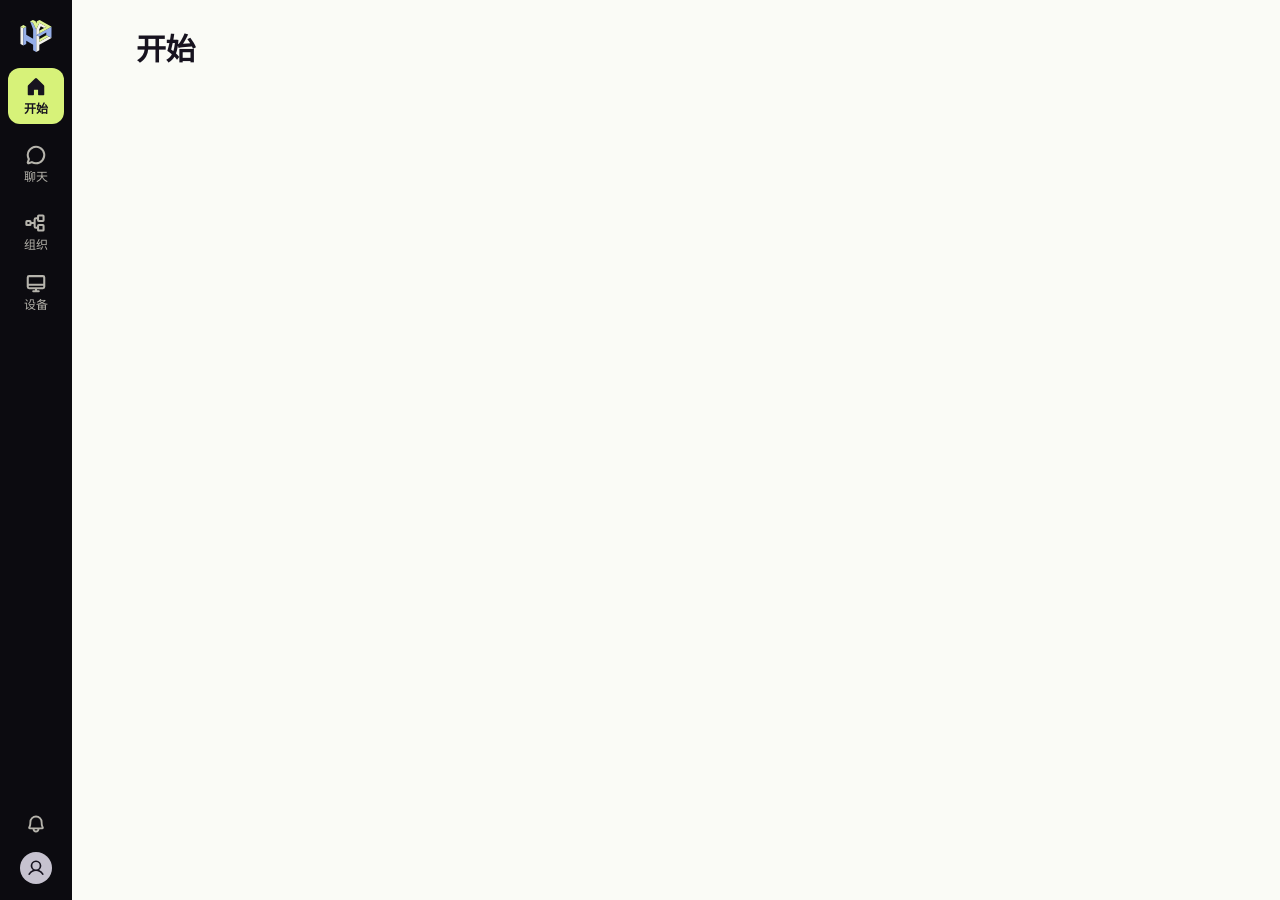
it: J7 integration: M-16 and M-17 › TC-006 opens Inspect for the M-17 edge with four fields and no endpoint
Click the button "组织". click: [36, 232]
box: top-left (8, 204), bottom-right (64, 260)
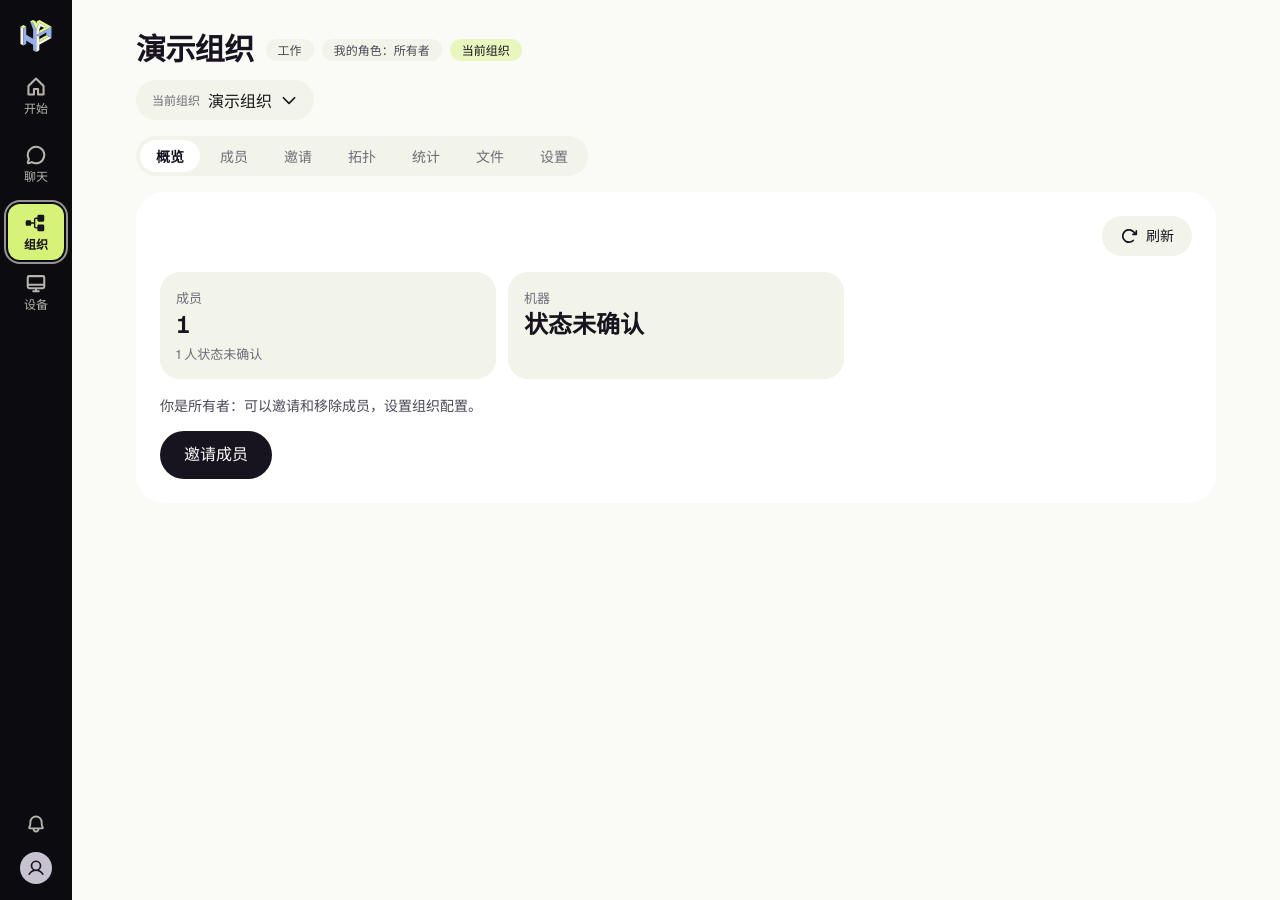
Click the tab "拓扑". click: [362, 156]
box: top-left (332, 140), bottom-right (392, 172)
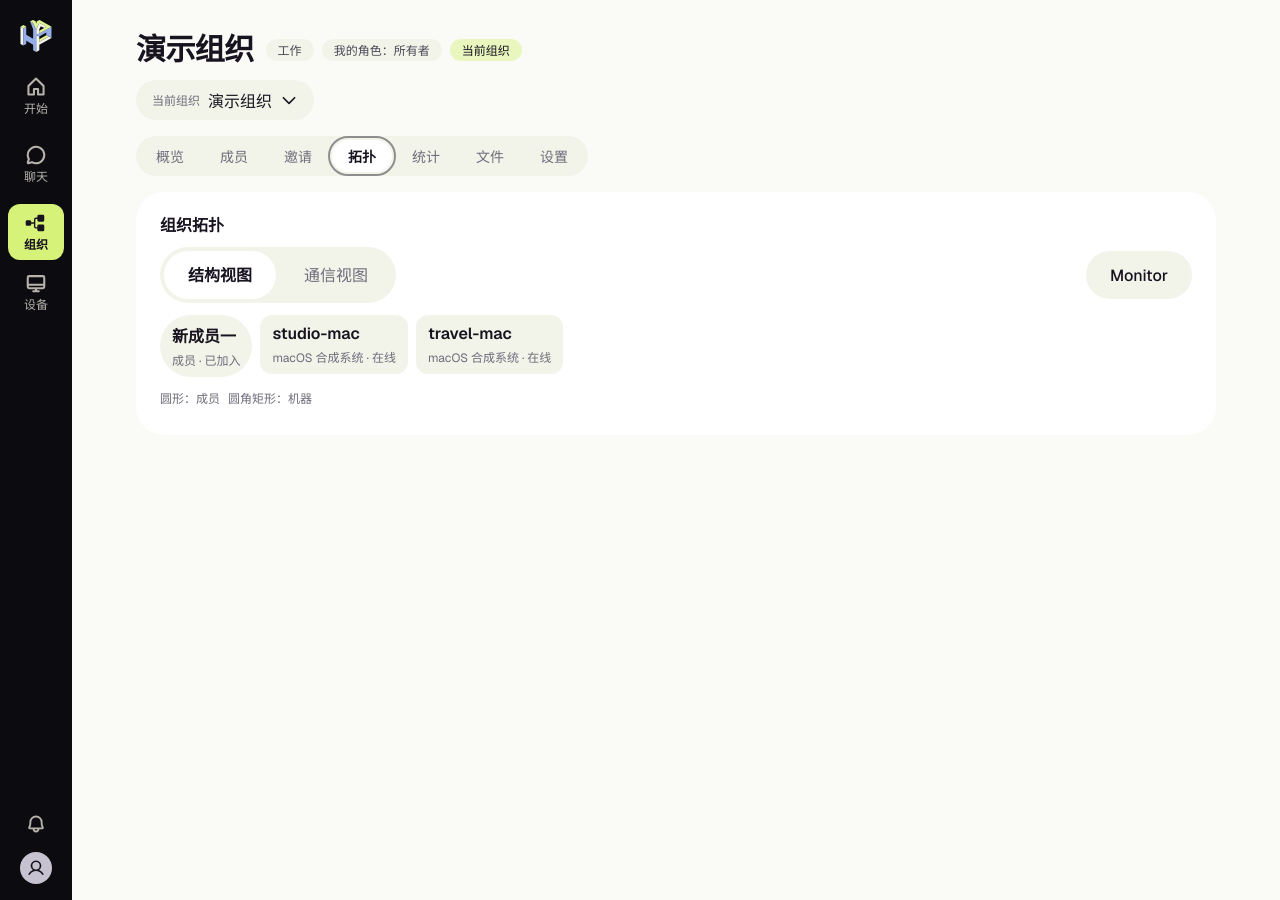
Click the button "通信视图". click: [336, 275]
box: top-left (280, 251), bottom-right (392, 299)
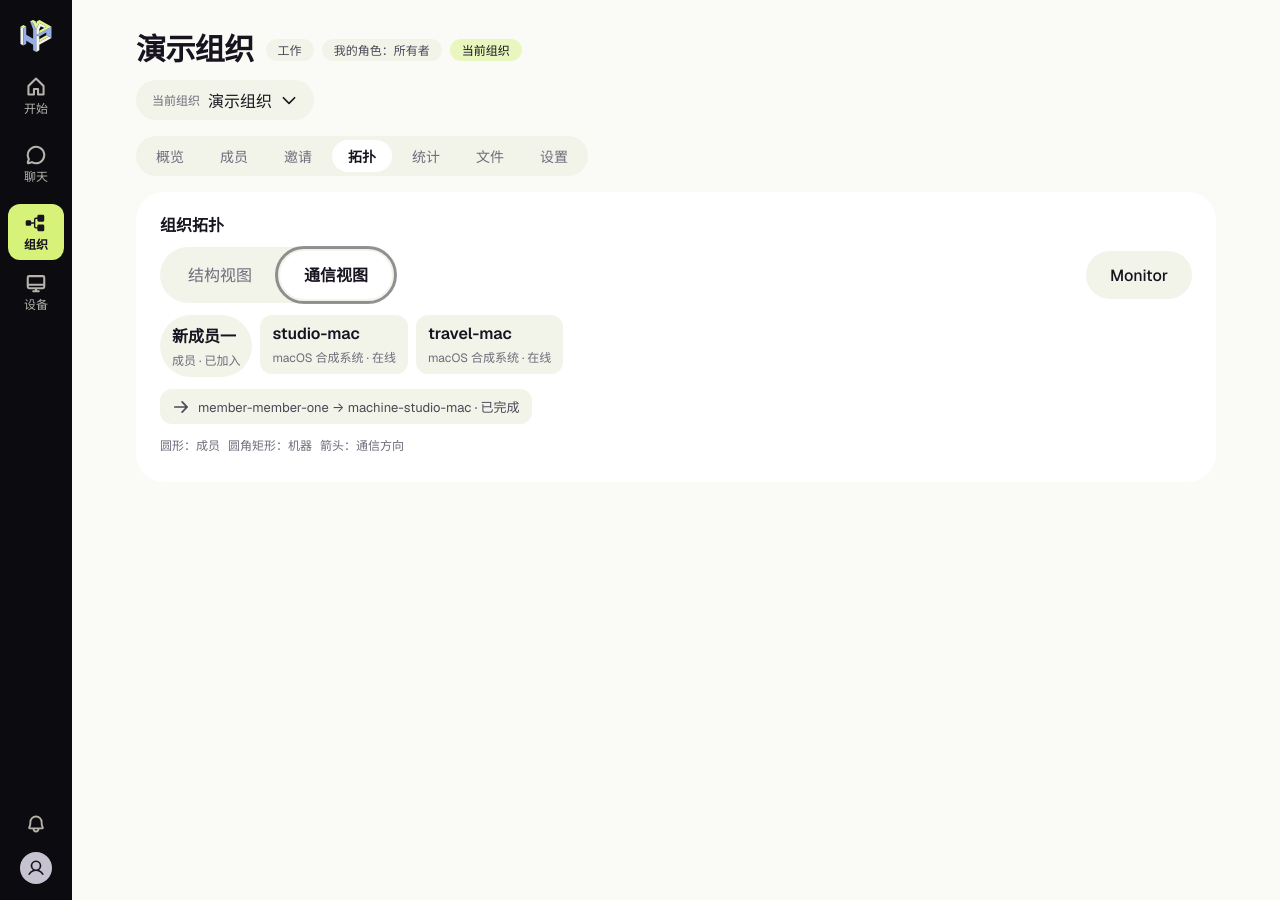
Expected: the button "member-member-one → machine-studio-mac · 已完成" is shown
Click the button "member-member-one → machine-studio-mac · 已完成". click: [346, 407]
box: top-left (160, 389), bottom-right (532, 424)
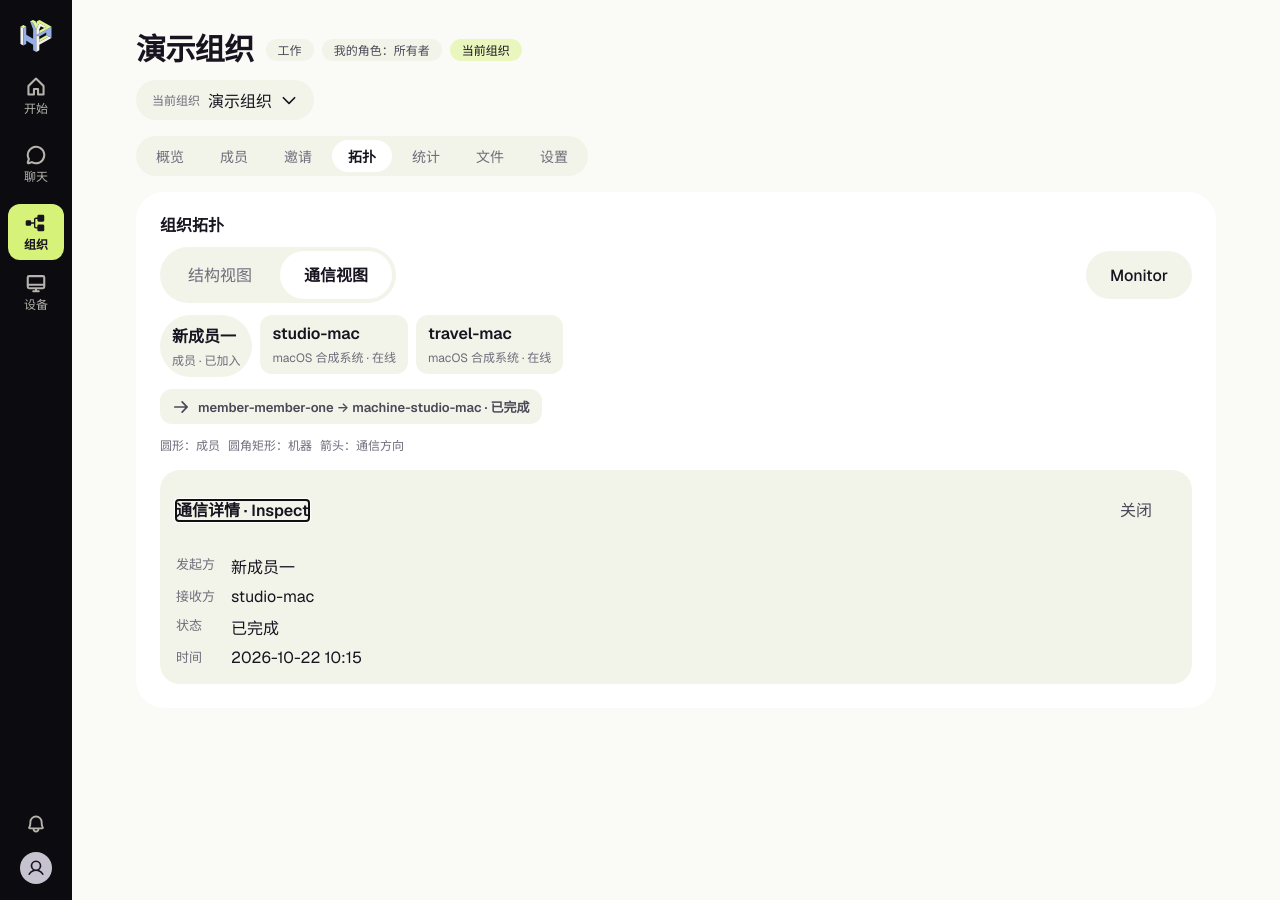
Expected: the dialog "Inspect" shows "发起方", top-left (176, 556), bottom-right (215, 573)
Expected: the dialog "Inspect" shows "接收方", top-left (176, 588), bottom-right (215, 605)
Expected: the dialog "Inspect" shows "状态", top-left (176, 617), bottom-right (202, 634)
Click the button with aria-label "关闭 Inspect". click: [1136, 510]
box: top-left (1096, 486), bottom-right (1176, 534)
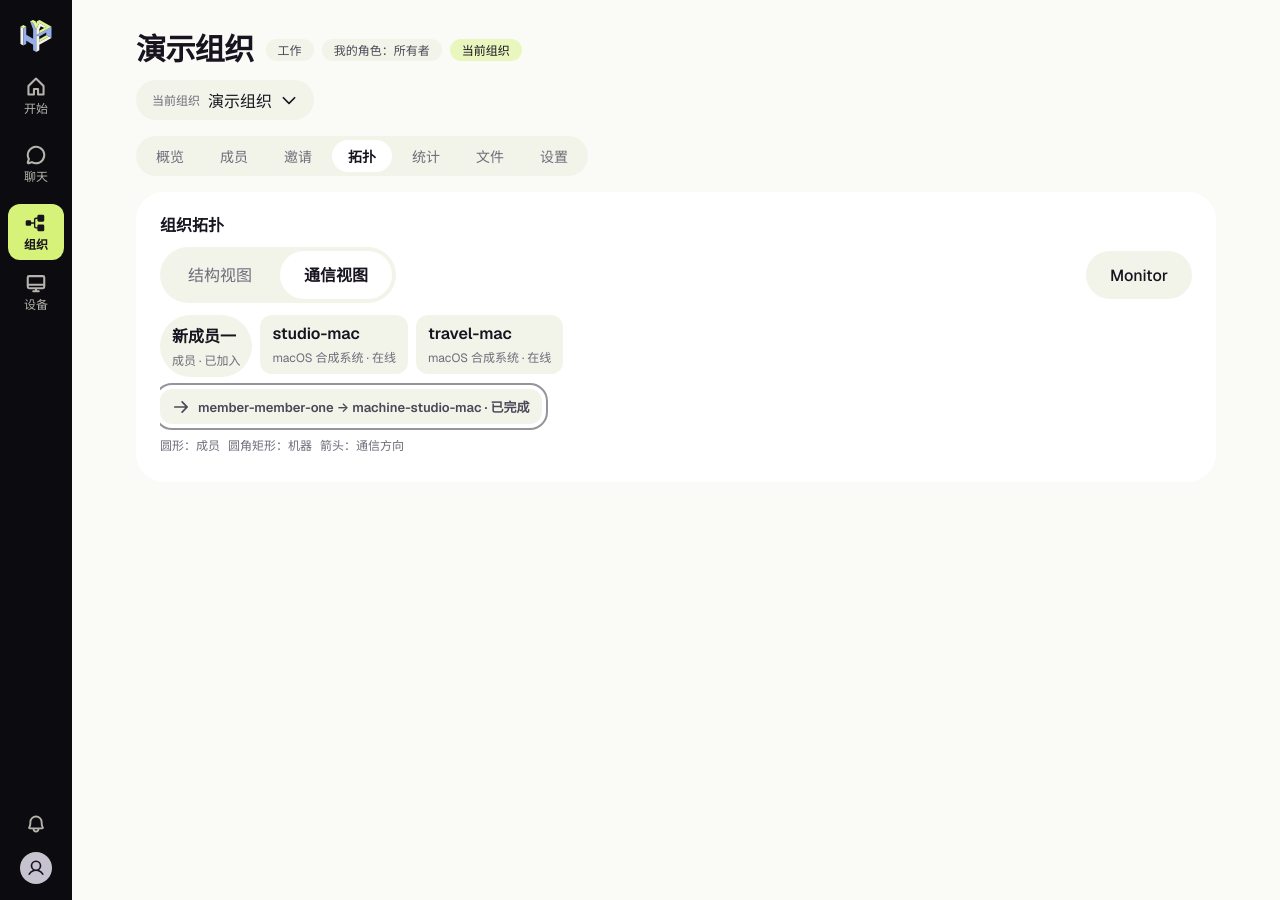
Expected: the heading "Inspect" is gone
